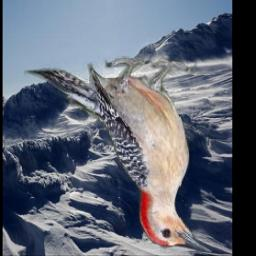Woodpecker: (24, 56, 215, 256)
